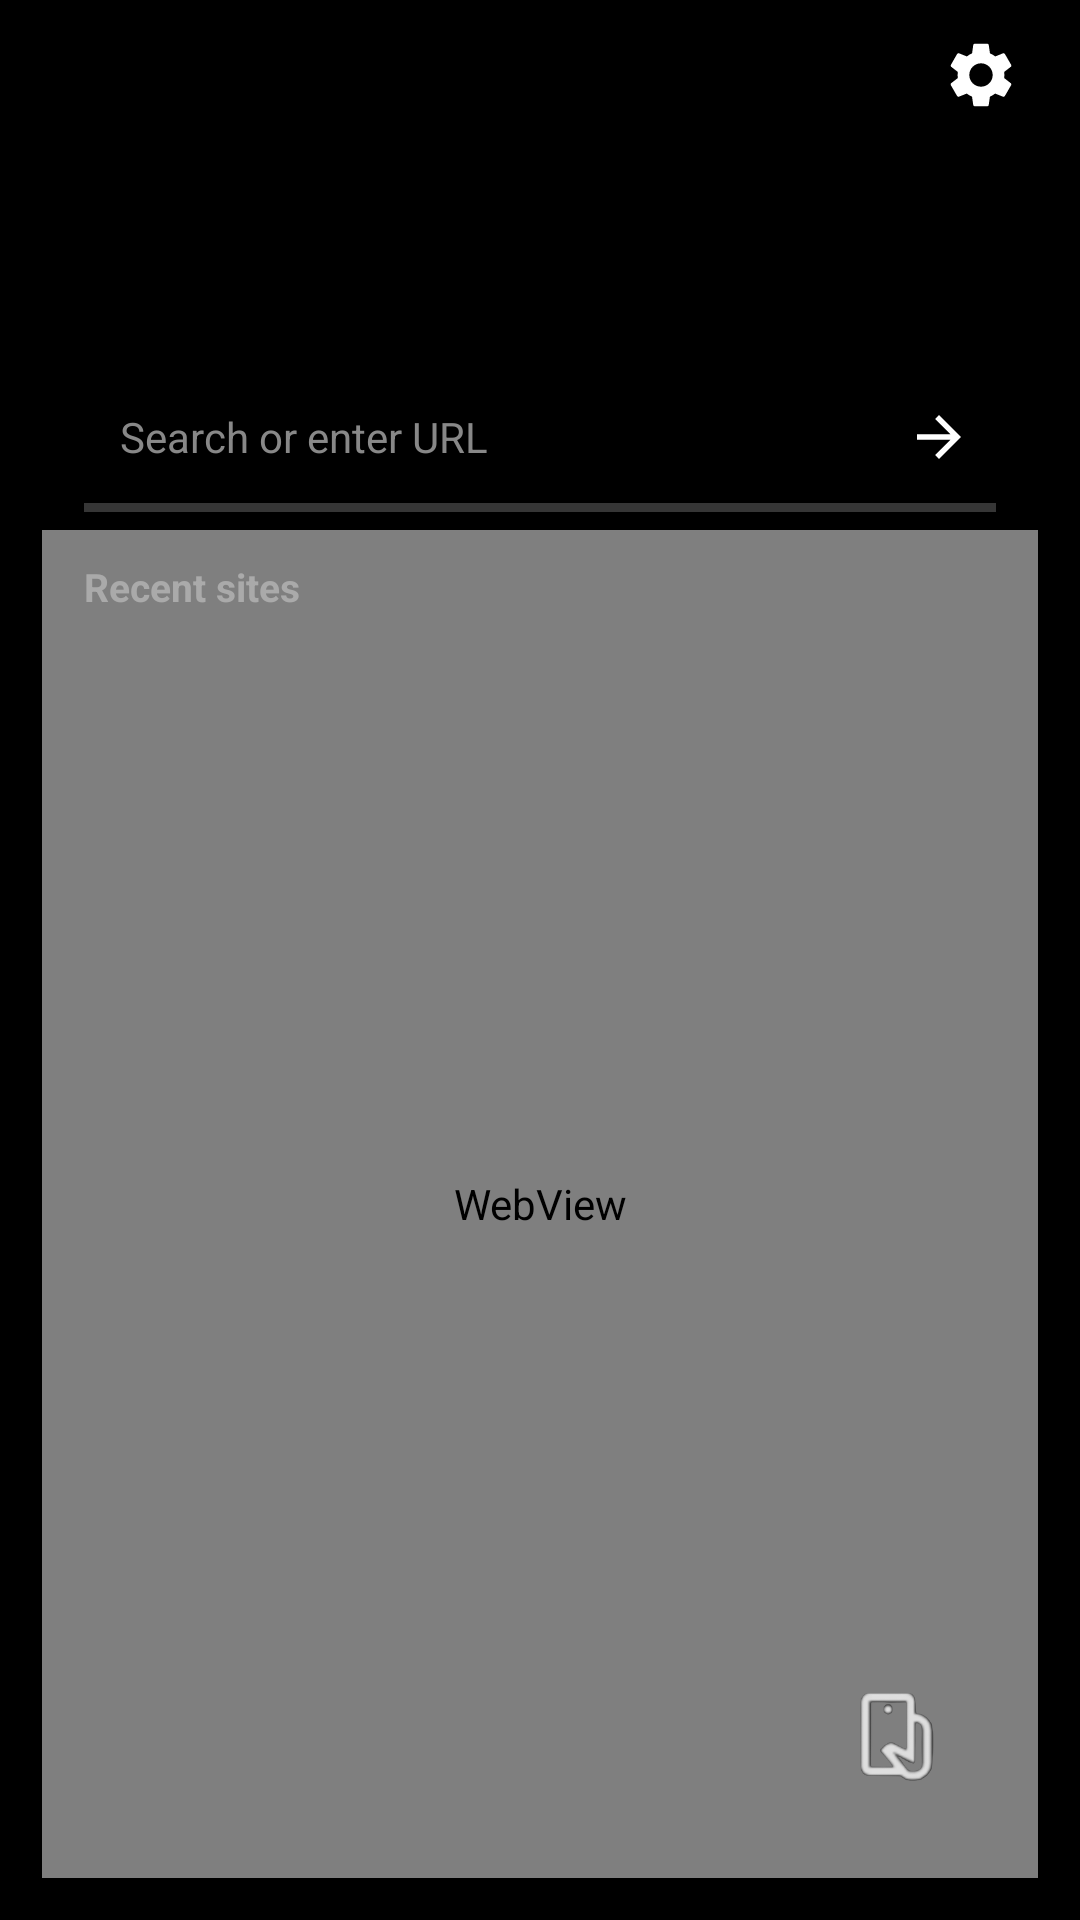

Point at icon controls on the screen. Image size 1080 x 1920, points as [x,y].
Go: [939,437]
Settings: [981,75]
